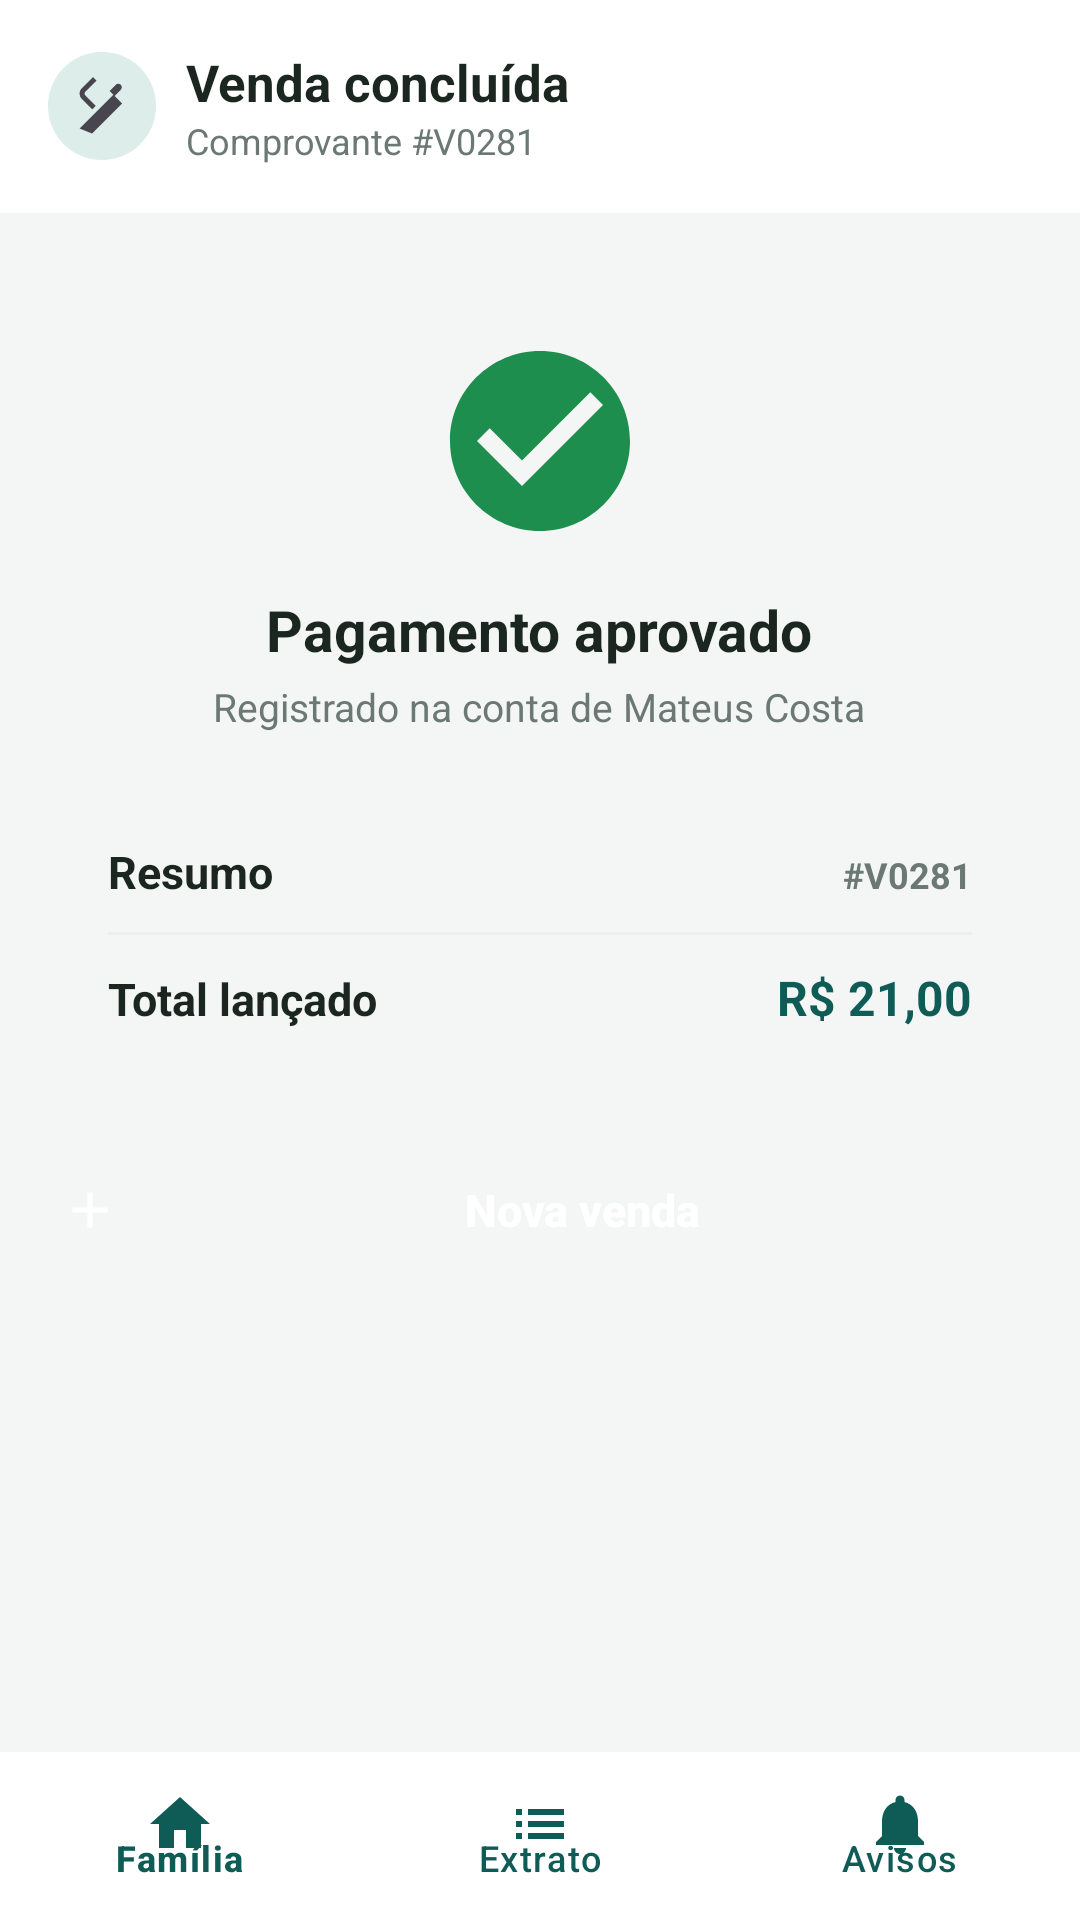

Icon click points for this 1080 × 1920 phone screenshot, format (x,y):
check circle: (540,441)
cozinha: (102,106)
